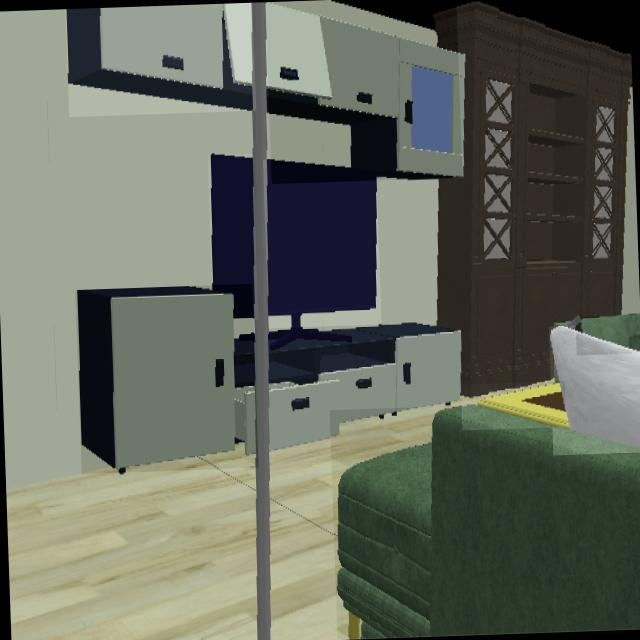cabinet: (266, 0, 462, 177), (77, 286, 256, 471), (267, 323, 461, 451), (66, 2, 254, 110)
monitor: (267, 159, 376, 349), (211, 155, 254, 319)
pillow: (549, 326, 640, 452)
sofa: (335, 406, 640, 637), (575, 314, 640, 352)
table: (461, 382, 566, 426)
